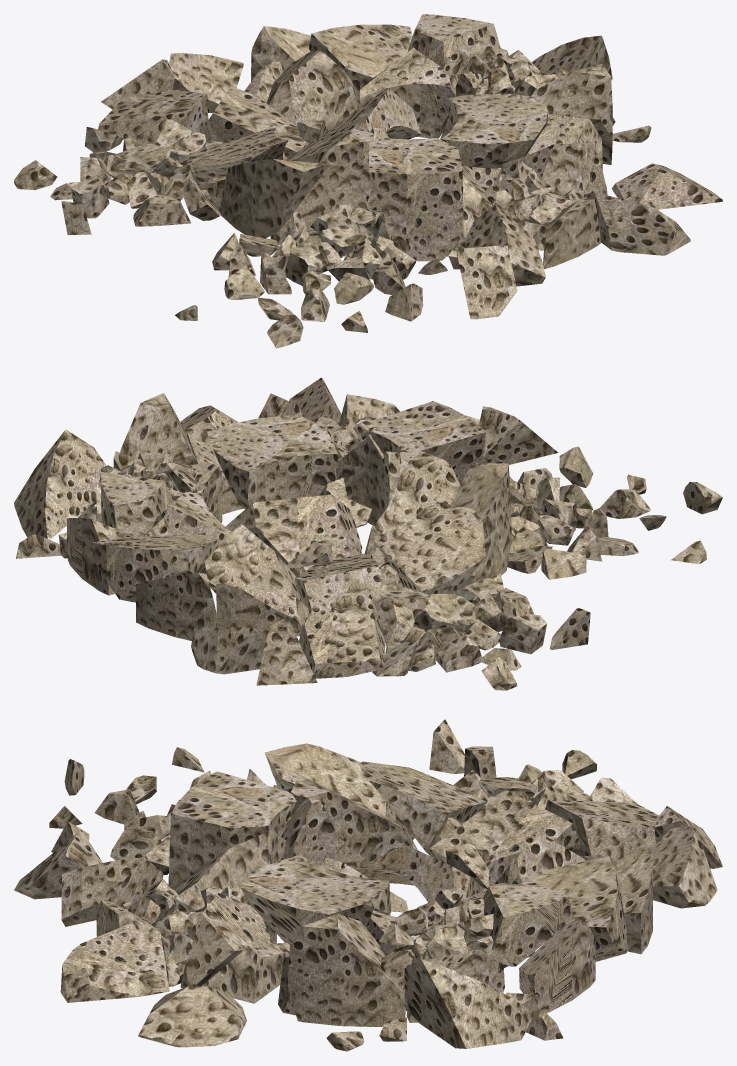
The model's file is rocks3.fbx.
3 renders of one model, top to bottom at view 1: azimuth 30°, elevation 25°; view 2: azimuth 150°, elevation 25°; view 3: azimuth 270°, elevation 25°, orthographic. The views are drawn at different scales.
Parts seen in each view (by area): view 1: Piece_37_4, Piece_17_5, Piece_26_5, Piece_2_5, Piece_0_5, Piece_23_5, Piece_31_5, Piece_20_5, Piece_10_5, Piece_6_5, Piece_36_5, Piece_22_5 (+44 smaller); view 2: Piece_17_5, Piece_9_5, Piece_6_5, Piece_7_5, Piece_8_5, Piece_0_5, Piece_37_4, Piece_1_5, Piece_26_5, Piece_23_5, Piece_2_5, Piece_16_5 (+47 smaller); view 3: Piece_10_5, Piece_37_4, Piece_17_5, Piece_7_5, Piece_31_5, Piece_22_5, Piece_9_5, Piece_16_5, Piece_0_5, Piece_12_5, Piece_15_5, Piece_18_5 (+40 smaller).
Boxes of the visible parts, x1,y1,x2,y2 form: Piece_37_4: [368, 137, 463, 261]; Piece_17_5: [440, 93, 548, 174]; Piece_26_5: [219, 159, 329, 238]; Piece_2_5: [266, 50, 359, 146]; Piece_0_5: [309, 24, 412, 107]; Piece_23_5: [285, 129, 374, 230]; Piece_31_5: [585, 192, 690, 255]; Piece_20_5: [360, 48, 456, 130]; Piece_10_5: [531, 64, 612, 164]; Piece_6_5: [98, 90, 208, 140]; Piece_36_5: [456, 245, 517, 319]; Piece_22_5: [201, 86, 307, 158]; Piece_17_5: [207, 414, 337, 508]; Piece_9_5: [373, 500, 485, 595]; Piece_6_5: [299, 592, 385, 678]; Piece_7_5: [14, 429, 106, 539]; Piece_8_5: [225, 494, 362, 576]; Piece_0_5: [92, 534, 219, 602]; Piece_37_4: [371, 401, 485, 484]; Piece_1_5: [135, 572, 216, 640]; Piece_26_5: [452, 463, 511, 583]; Piece_23_5: [364, 449, 460, 557]; Piece_2_5: [204, 523, 301, 601]; Piece_16_5: [100, 472, 174, 536]; Piece_10_5: [287, 914, 405, 1026]; Piece_37_4: [168, 771, 296, 890]; Piece_17_5: [240, 854, 390, 945]; Piece_7_5: [404, 959, 533, 1048]; Piece_31_5: [60, 920, 169, 1002]; Piece_22_5: [429, 790, 580, 889]; Piece_9_5: [358, 761, 486, 855]; Piece_16_5: [483, 883, 572, 966]; Piece_0_5: [521, 856, 626, 961]; Piece_12_5: [138, 986, 246, 1047]; Piece_15_5: [519, 919, 595, 1013]; Piece_18_5: [180, 893, 273, 988].
Bounding box in the file's own units: 683 × 103 × 669.
Materials: 1 (1 with a texture image).
